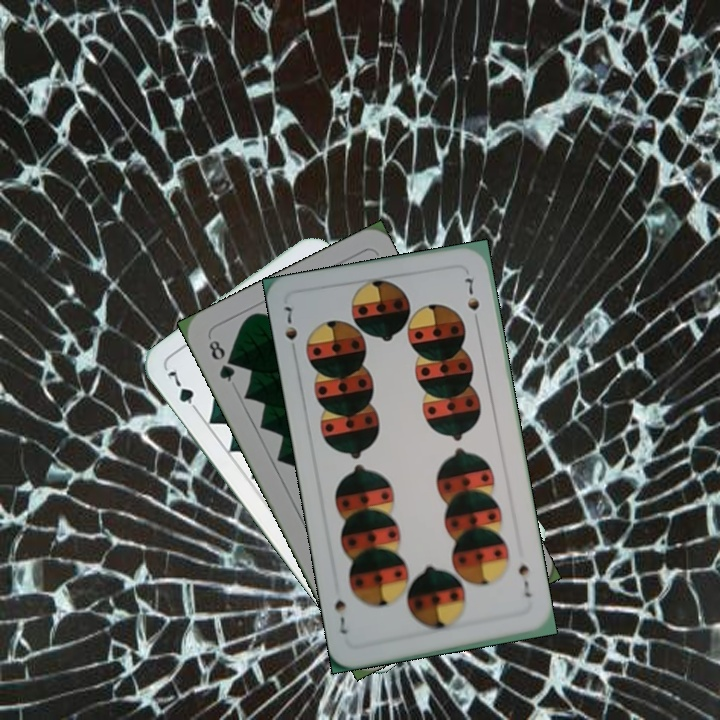G7: (163, 365, 203, 418)
G8: (204, 336, 238, 385)
S7: (514, 560, 536, 600), (279, 302, 300, 343)
